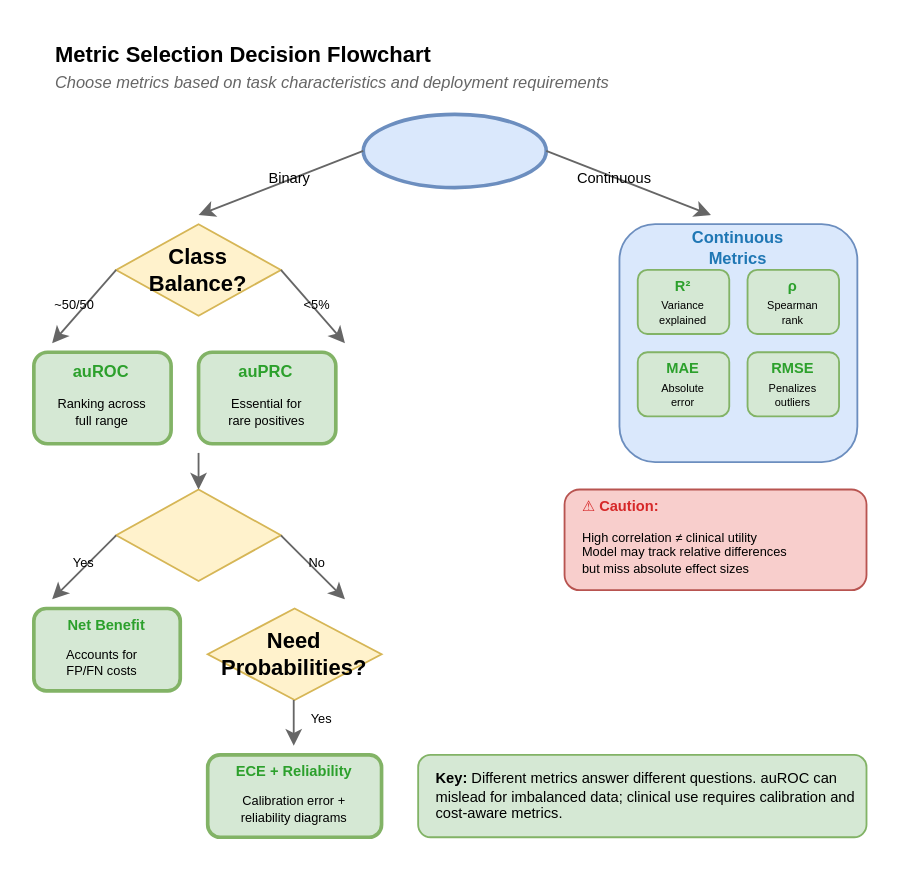
The diagram is 899 pixels wide and 869 high, and some of its shapes have lost their labels. The centre of each missing label's shape, as x and y in pixels:
"Clinical Decision?" goes at (197,534).
"Task Type?" goes at (454,150).
